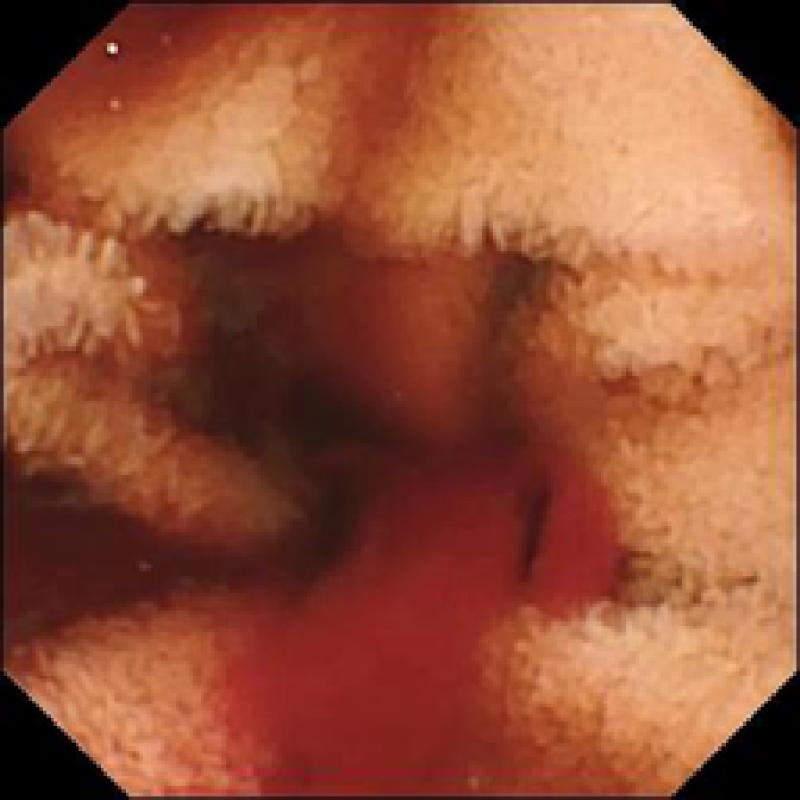bleeding: (211, 425, 621, 800)
